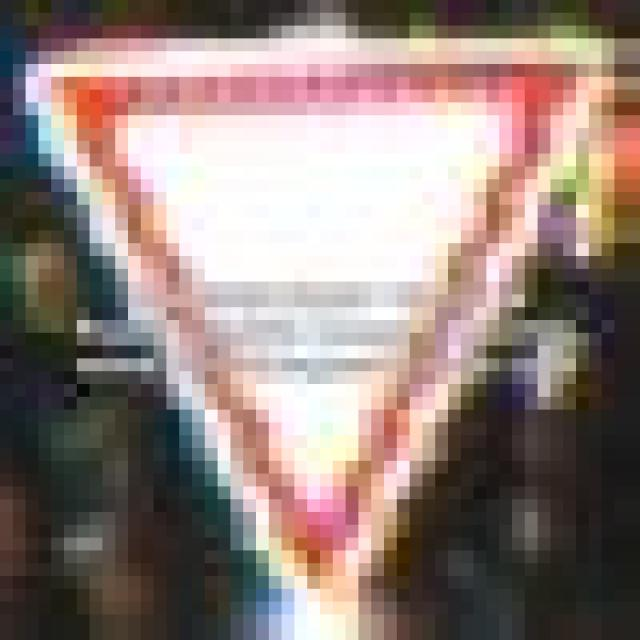gap_in_median: (26, 38, 602, 576)
